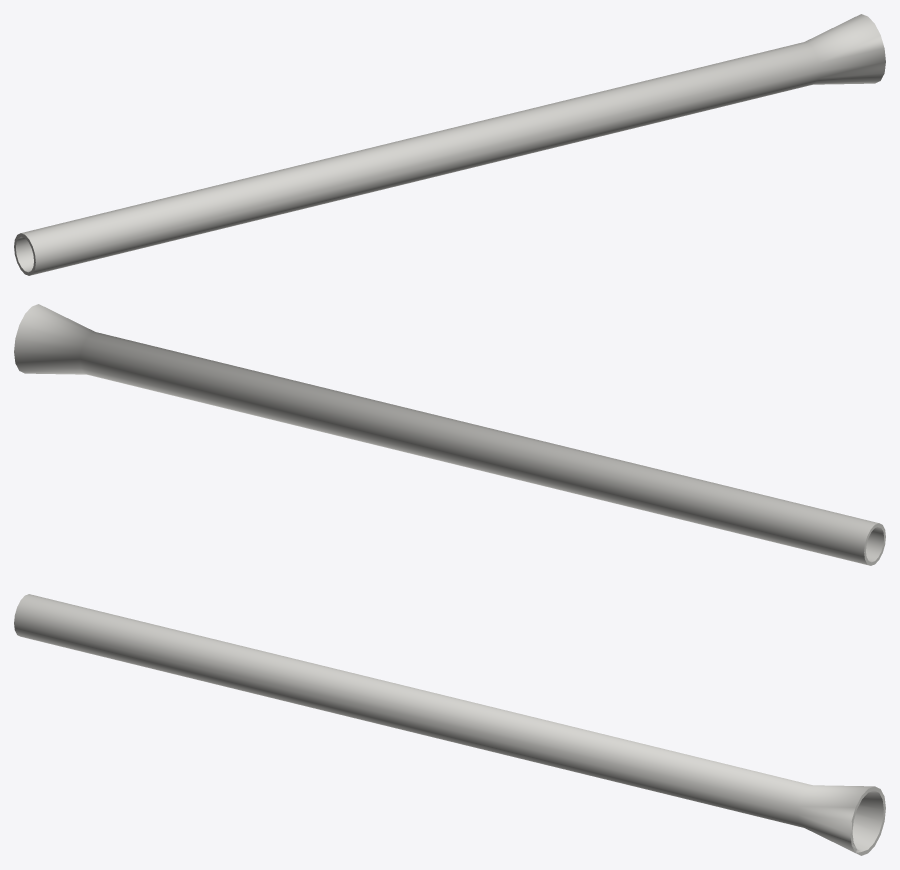
File: tool_Pipe_bender_spring_1.4.glb
3 renders of one model, top to bottom at view 1: azimuth 30°, elevation 25°; view 2: azimuth 150°, elevation 25°; view 3: azimuth 330°, elevation 25°, orthographic.
Parts seen in each view (by area): view 1: tool_Pipe_bender_spring_1.4; view 2: tool_Pipe_bender_spring_1.4; view 3: tool_Pipe_bender_spring_1.4.
Part boxes in pixels (bbox=[...]): tool_Pipe_bender_spring_1.4: bbox=[14, 14, 885, 275]; tool_Pipe_bender_spring_1.4: bbox=[14, 304, 885, 565]; tool_Pipe_bender_spring_1.4: bbox=[14, 594, 885, 855].
Bounding box in the file's own units: 0.1897 × 0.0139 × 0.0139.
Materials: 1 (1 with a texture image).
